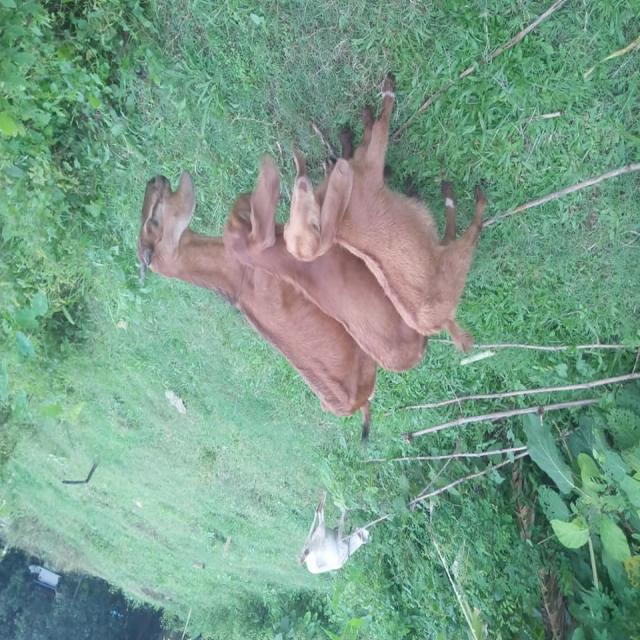Goat: (137, 170, 377, 444), (283, 74, 487, 356), (221, 147, 429, 375), (297, 489, 390, 576)
